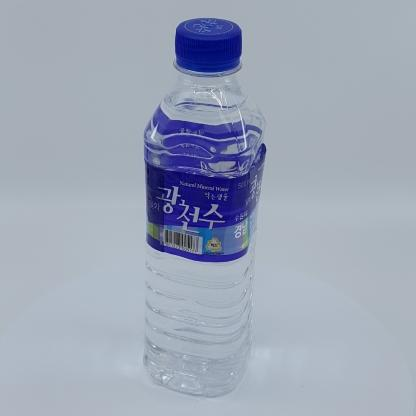----------500ML: (143, 18, 266, 398)
